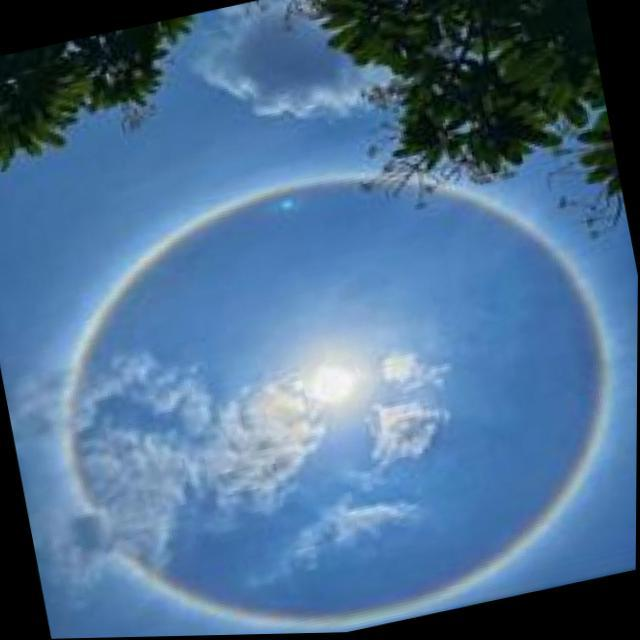sun: (303, 364, 360, 406)
